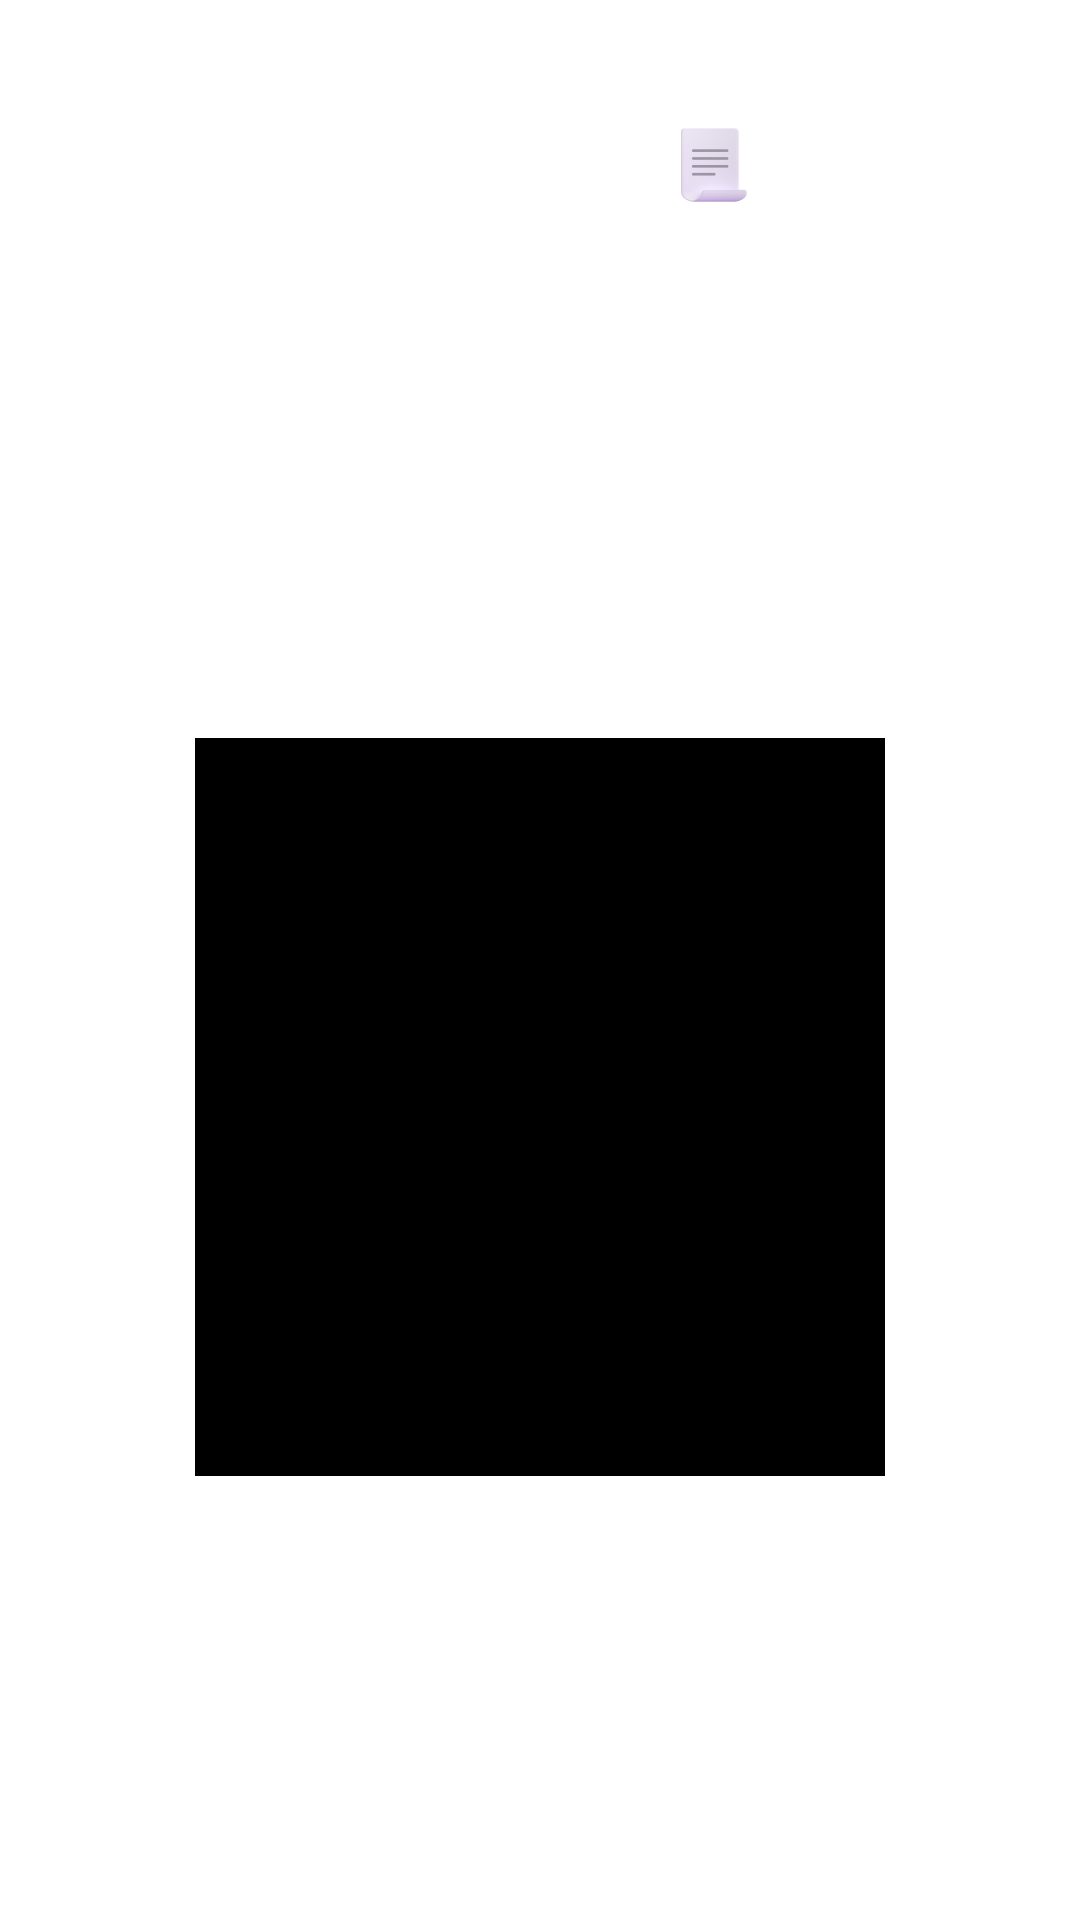

Locate icon controls on the screen. Image size 1080w x 1920h, boxes as box=[x1, y1, x2, y2].
paper: box=[681, 129, 747, 202]
